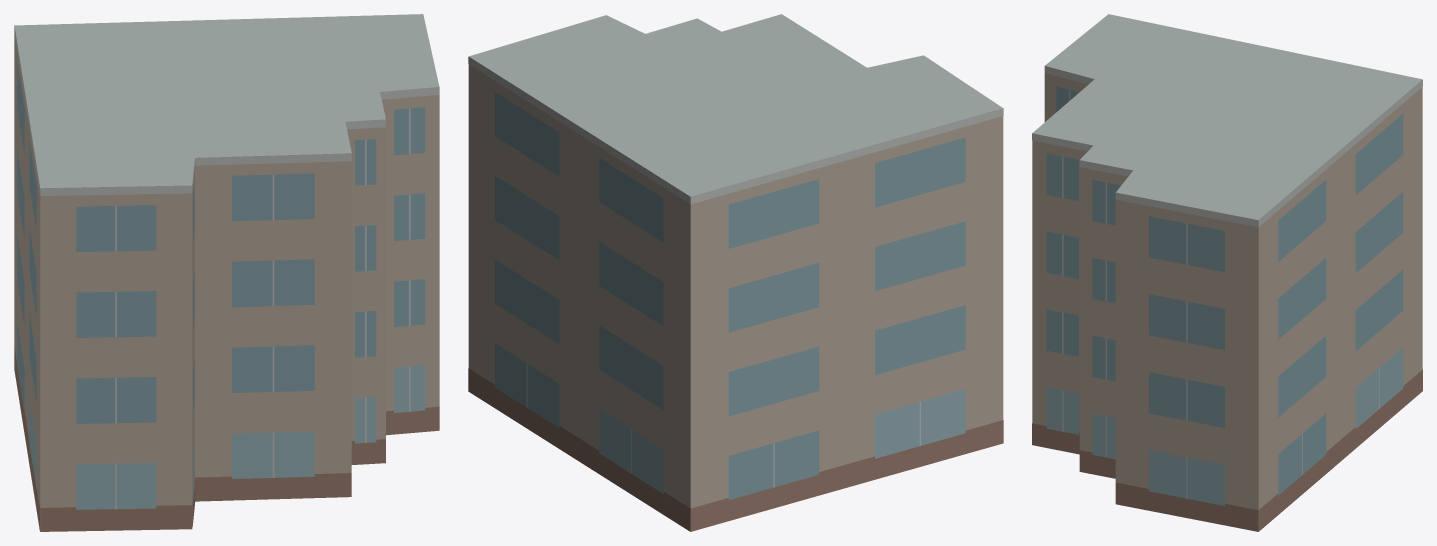
The model's file is survey-upis-32953519.glb.
3 renders of one model, left to right at view 1: azimuth 30°, elevation 25°; view 2: azimuth 150°, elevation 25°; view 3: azimuth 270°, elevation 25°, orthographic. The views are drawn at different scales.
Visible parts, largest first — view 1: survey-upis-32953519.tmp; view 2: survey-upis-32953519.tmp; view 3: survey-upis-32953519.tmp.
Boxes of the visible parts, x1,y1,x2,y2 form: survey-upis-32953519.tmp: (14, 14, 439, 531); survey-upis-32953519.tmp: (468, 14, 1003, 531); survey-upis-32953519.tmp: (1032, 14, 1422, 531).
Size of the model in its own units: 15.05 by 10.6 by 12.05.
